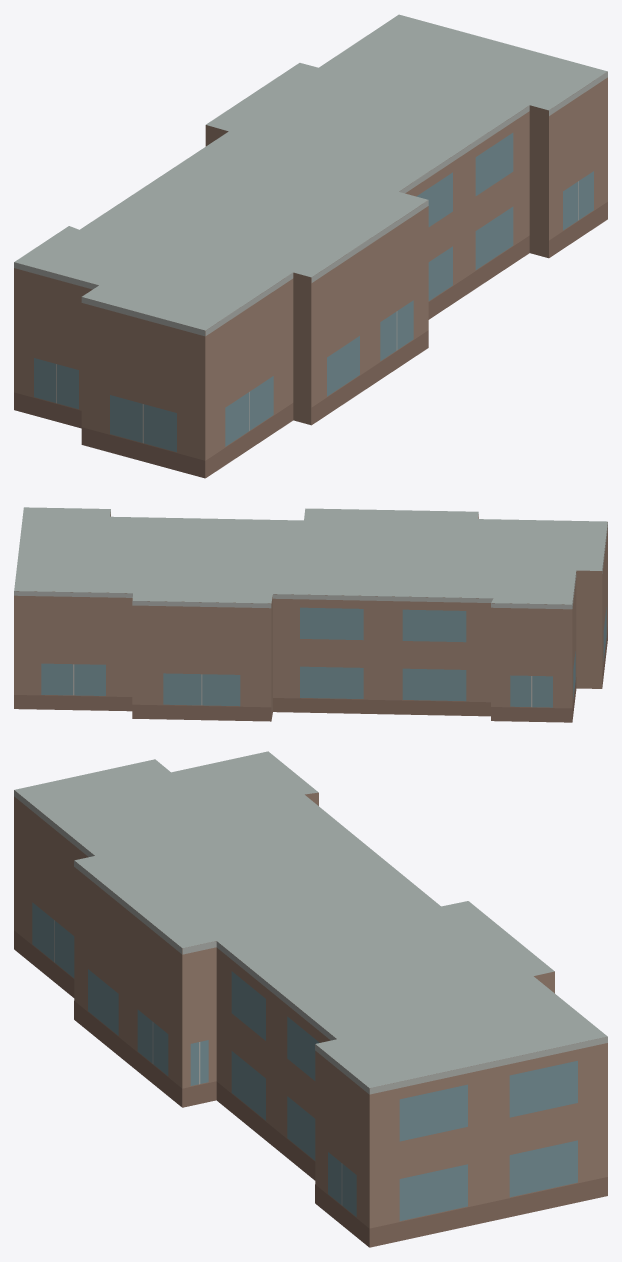
Rendered from survey-upis-32830247.glb.
3 views of the same model, one above another, from view 1: azimuth 30°, elevation 25°; view 2: azimuth 150°, elevation 25°; view 3: azimuth 270°, elevation 25° (orthographic). The views are drawn at different scales.
Visible parts, largest first — view 1: survey-upis-32830247.tmp; view 2: survey-upis-32830247.tmp; view 3: survey-upis-32830247.tmp.
Part boxes in pixels (left/top/right/bottom): survey-upis-32830247.tmp: left=14, top=14, right=607, bottom=478; survey-upis-32830247.tmp: left=14, top=507, right=607, bottom=722; survey-upis-32830247.tmp: left=14, top=751, right=607, bottom=1247.
Bounding box in the file's own units: 27.67 × 6.1 × 20.6.
